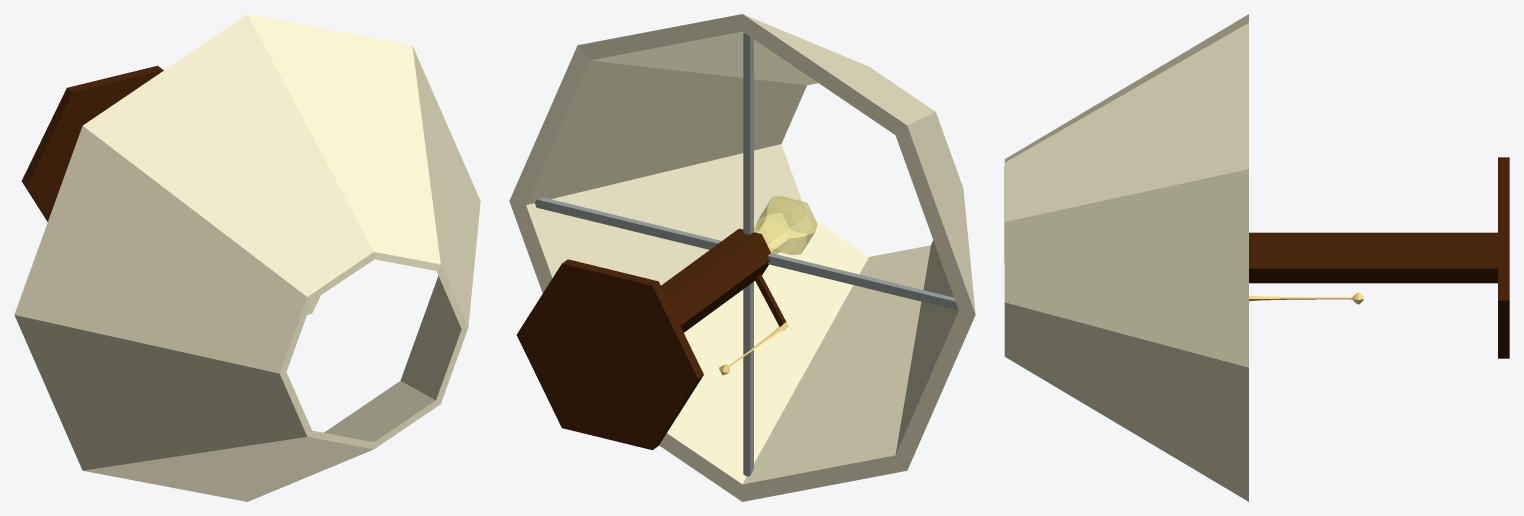
3 views of the same model, side by side, from view 1: azimuth 30°, elevation 25°; view 2: azimuth 150°, elevation 25°; view 3: azimuth 270°, elevation 25° (orthographic). The views are drawn at different scales.
Parts seen in each view (by area): view 1: pCylinder1_Copa_0; view 2: pCylinder1_Copa_0; view 3: pCylinder1_Copa_0.
Boxes of the visible parts, x1,y1,x2,y2 form: pCylinder1_Copa_0: (14,14,480,501); pCylinder1_Copa_0: (509,14,975,501); pCylinder1_Copa_0: (1004,14,1509,501).
Bounding box in the file's own units: 0.0514 × 0.0514 × 0.05.
